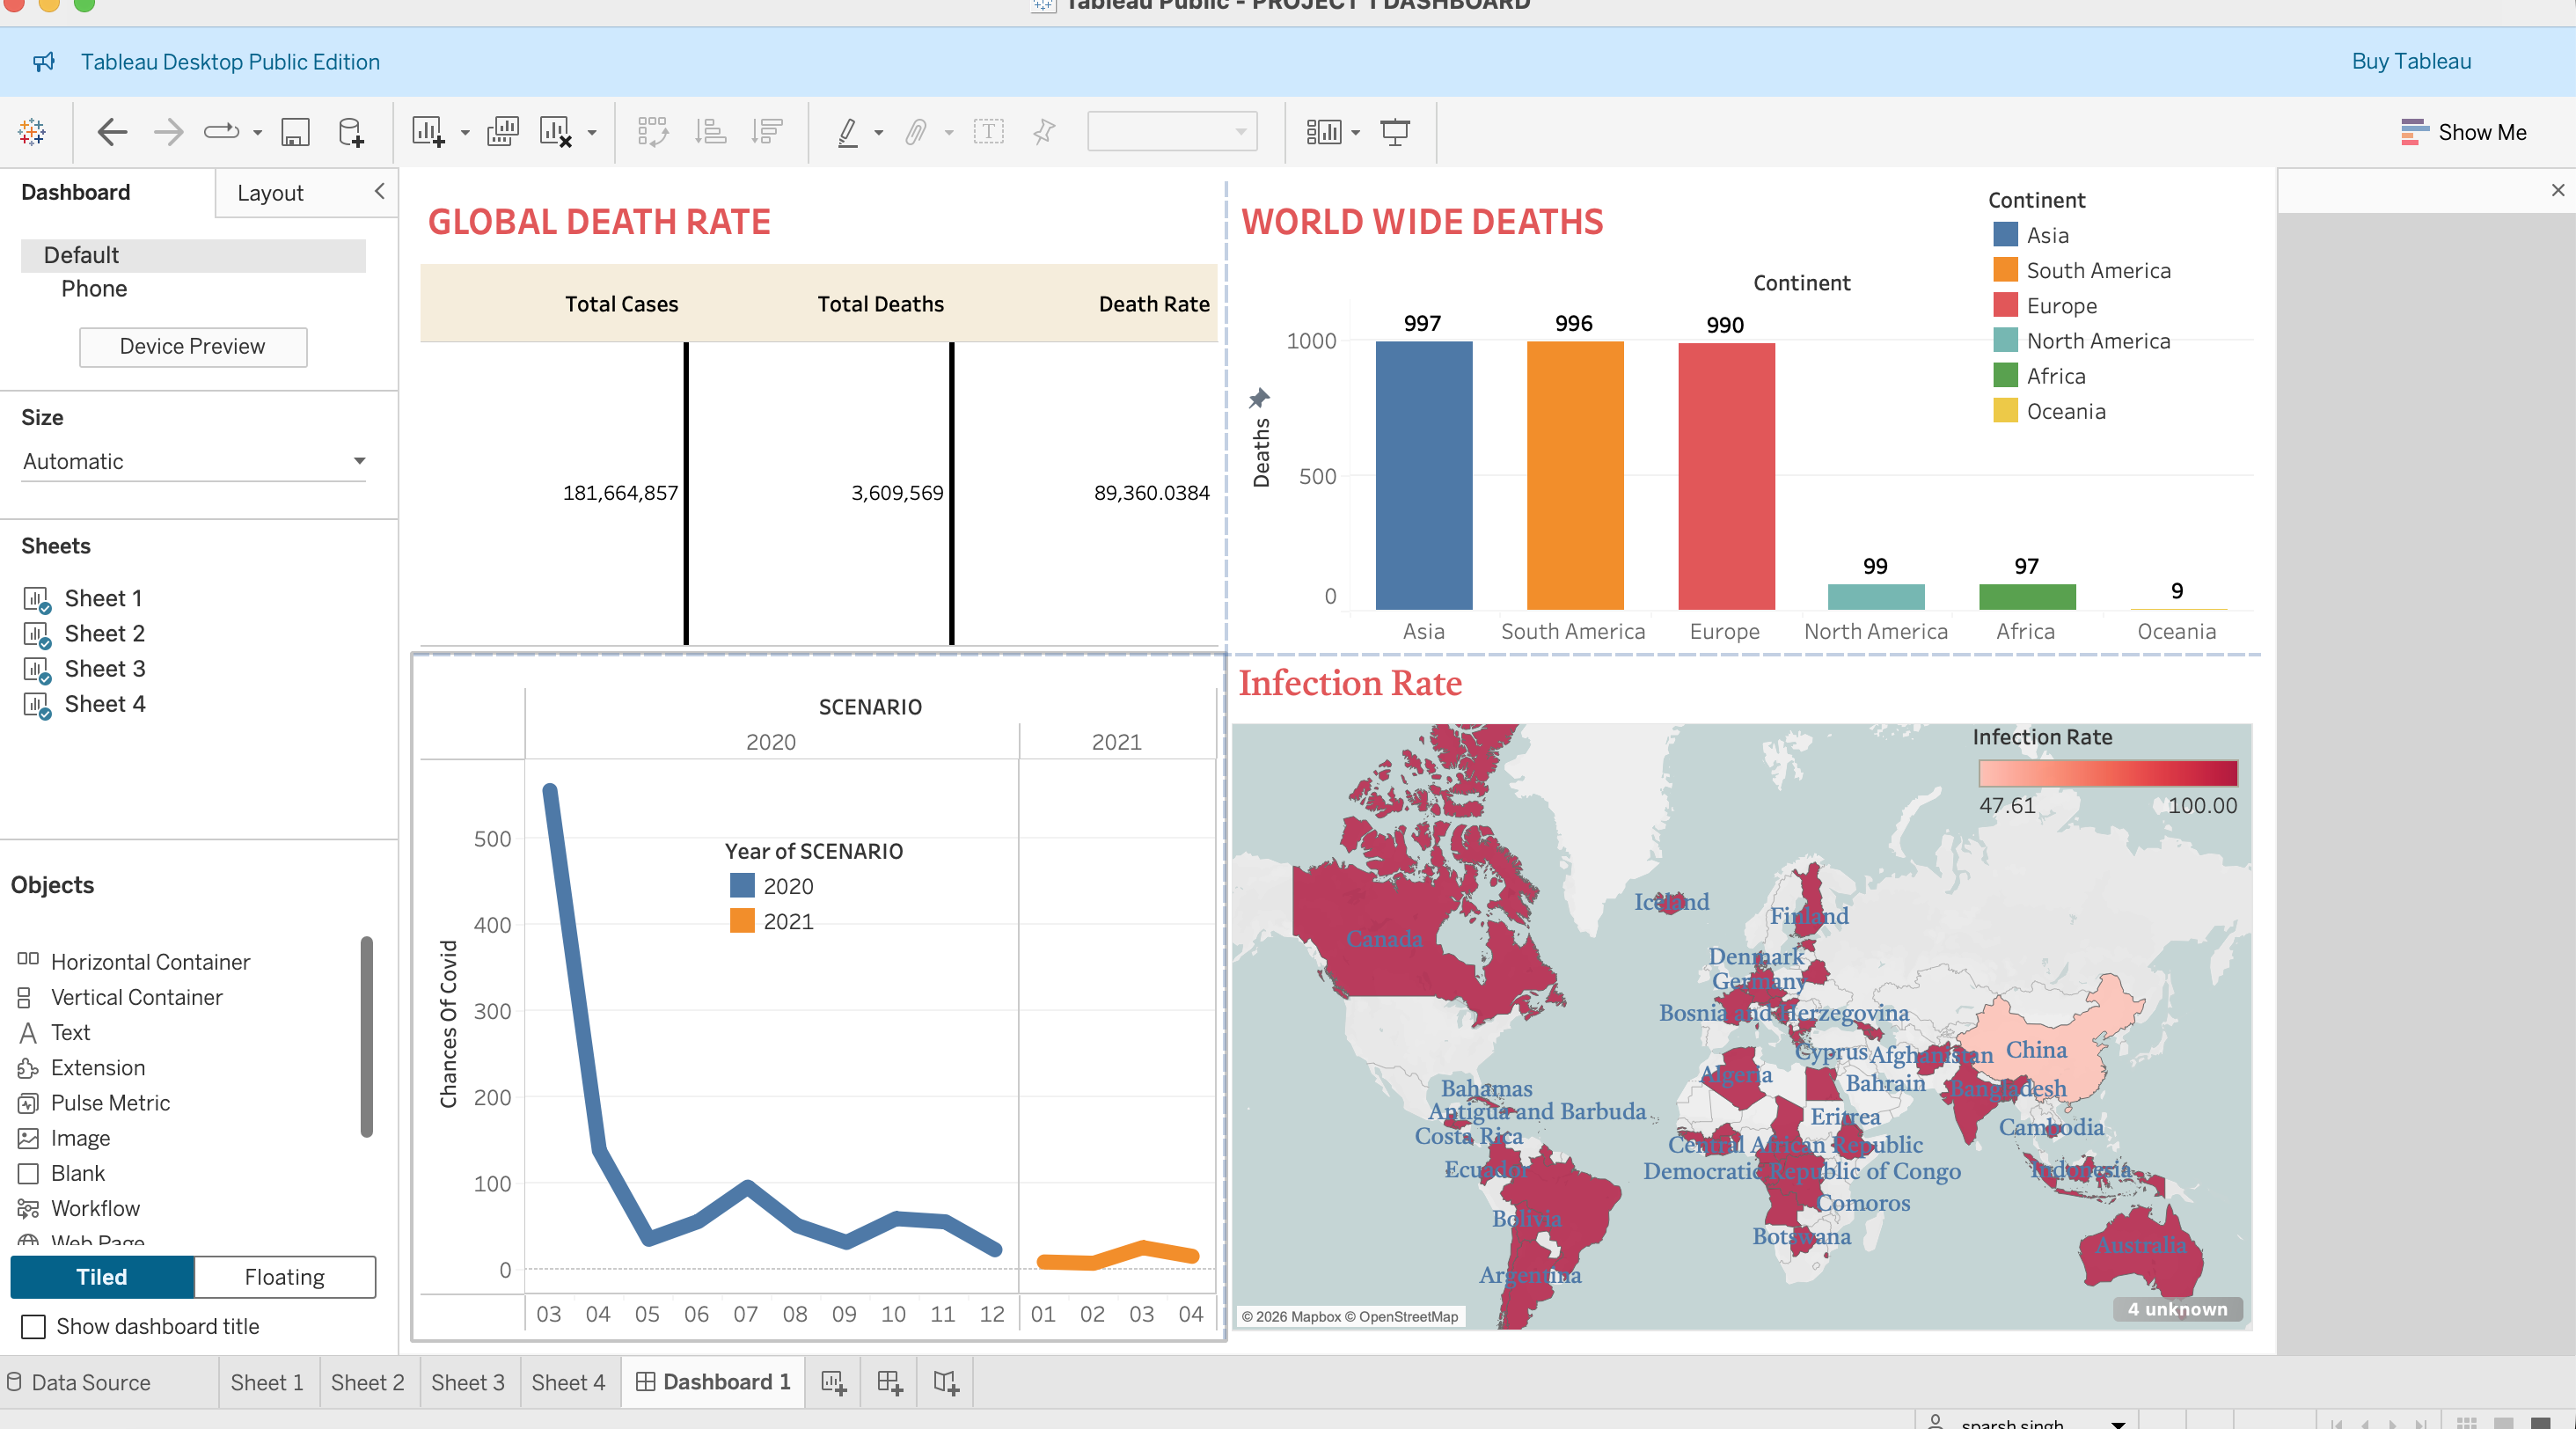

The dashboard page shown, as its layout file describes it:
{"tool":"tableau","page":{"name":"Dashboard 1","canvas":[1000,1000],"units":"permille","ordinal":0},"visuals":[{"type":"worksheet","title":"Sheet 1","mark":"Automatic","box":[7.5,11.9,433,399.1]},{"type":"worksheet","title":"Sheet 2","mark":"Automatic","rows":["max(deaths)"],"cols":["Continent"],"box":[440.5,11.9,552,399.1]},{"type":"legend","title":"Sheet 2","param":"[federated.0ptjlzs0atj5hs1gnrvkf0xih35a].[none:Continent:nk]","box":[847.3,14.8,131.9,204.8]},{"type":"worksheet","title":"Sheet 4","mark":"Automatic","rows":["CHANCES_OF_COVID"],"cols":["STR_TO_DATE(date, '%d/%m/%Y')","STR_TO_DATE(date, '%d/%m/%Y')"],"box":[7.5,411,432.7,577.2]},{"type":"worksheet","title":"Sheet 3","mark":"Automatic","box":[440.2,411,552.4,577.2]},{"type":"legend","title":"Sheet 3","param":"[federated.0aljyku0fse44618cm8800mgtfxc].[sum:INFECTION_RATE:qk]","box":[838.6,467.4,146.4,112.8]},{"type":"legend","title":"Sheet 4","param":"[federated.1syru4k0ezpp3y1dw5or51eextdv].[yr:STR_TO_DATE(date, '%d/%m/%Y'):ok]","box":[173.3,563.8,131.5,86]}]}

Visuals, with their boxes on the dashboard's canvas, which has no fixed pixel size, in thousandths of its width and height (x1, y1, x2, y2). These are canvas units, not pixel positions in the 2576x1429 screenshot, which may show the page scaled, cropped or inside an application window:
"Sheet 1" worksheet: x1=8 y1=12 x2=440 y2=411
"Sheet 2" worksheet: x1=440 y1=12 x2=992 y2=411
"Sheet 2" legend: x1=847 y1=15 x2=979 y2=220
"Sheet 4" worksheet: x1=8 y1=411 x2=440 y2=988
"Sheet 3" worksheet: x1=440 y1=411 x2=993 y2=988
"Sheet 3" legend: x1=839 y1=467 x2=985 y2=580
"Sheet 4" legend: x1=173 y1=564 x2=305 y2=650
